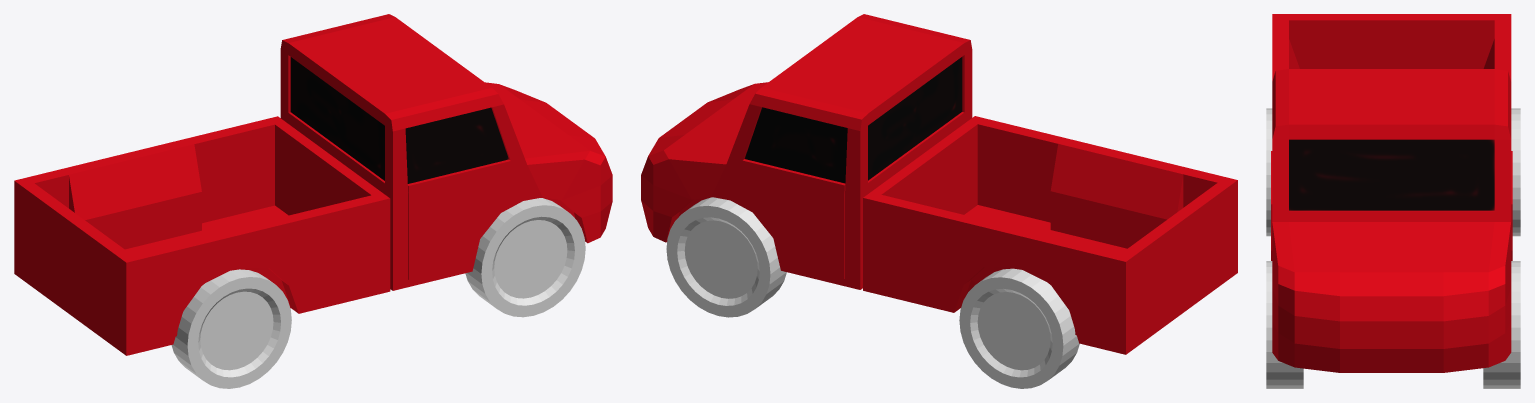
Rendered from samochod_2.fbx.
3 views of the same model, side by side, from view 1: azimuth 30°, elevation 25°; view 2: azimuth 150°, elevation 25°; view 3: azimuth 270°, elevation 25° (orthographic). The views are drawn at different scales.
Parts seen in each view (by area): view 1: Cube, Cylinder.001, Cylinder; view 2: Cube, Cylinder.002, Cylinder.003; view 3: Cube, Cylinder.003, Cylinder, Cylinder.002, Cylinder.001.
Boxes of the visible parts, x1=… form: Cube: x1=14, y1=14, x2=612, y2=355; Cylinder.001: x1=171, y1=269, x2=291, y2=388; Cylinder: x1=465, y1=198, x2=585, y2=317; Cube: x1=641, y1=14, x2=1237, y2=354; Cylinder.002: x1=959, y1=268, x2=1079, y2=388; Cylinder.003: x1=666, y1=197, x2=786, y2=317; Cube: x1=1271, y1=14, x2=1512, y2=372; Cylinder.003: x1=1483, y1=261, x2=1520, y2=388; Cylinder: x1=1266, y1=261, x2=1303, y2=388; Cylinder.002: x1=1511, y1=108, x2=1520, y2=236; Cylinder.001: x1=1266, y1=108, x2=1272, y2=236.
Size of the model in its own units: 1139 by 489 by 465.
Materials: 1 (1 with a texture image).
